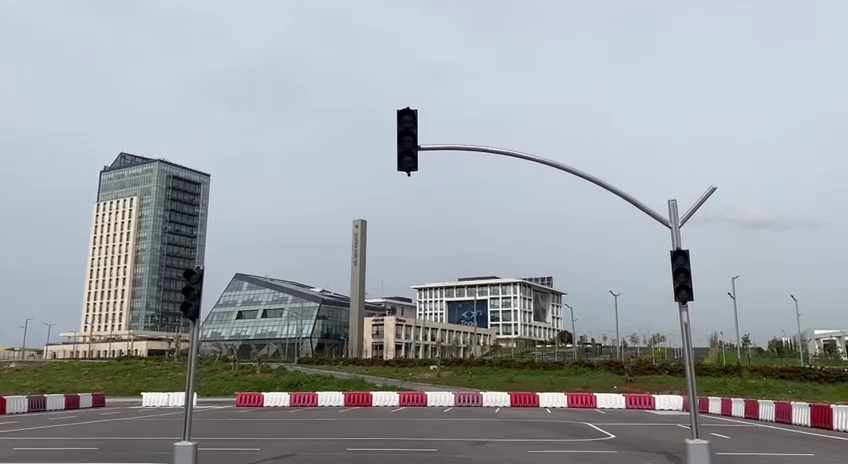trafficLight: (392, 102, 423, 179), (667, 245, 697, 307), (176, 264, 206, 323)
